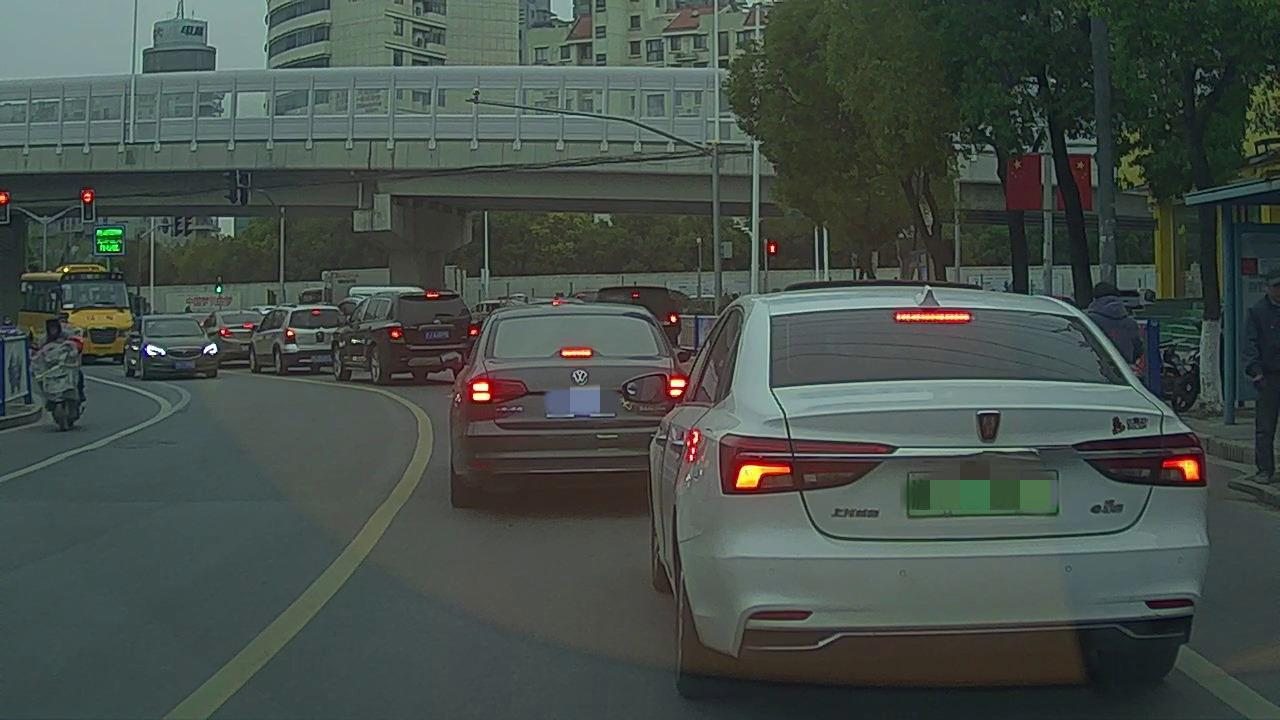traffic_light: (81, 192, 94, 219)
